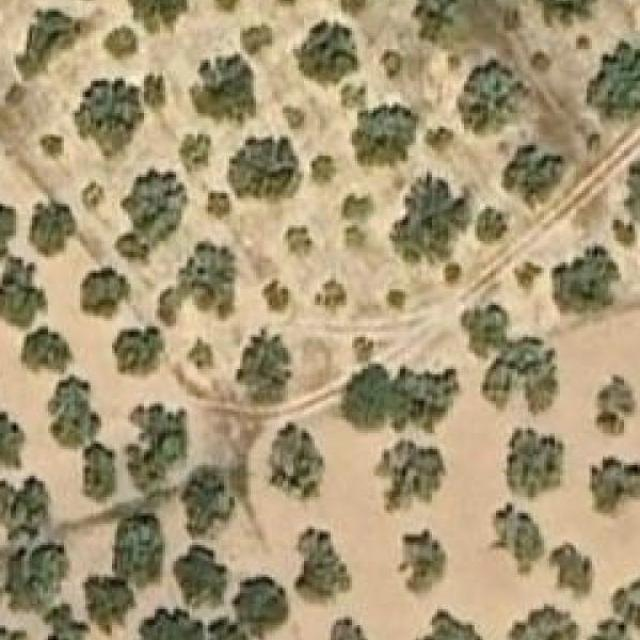Tree: (461, 302, 560, 417), (328, 364, 458, 433), (117, 166, 190, 262), (392, 175, 469, 260), (156, 241, 234, 324), (70, 81, 141, 162), (370, 441, 448, 513), (125, 404, 187, 490), (456, 60, 530, 132), (226, 134, 301, 204), (16, 10, 91, 79), (267, 422, 325, 508), (189, 54, 256, 127), (293, 527, 352, 607), (292, 17, 360, 86), (5, 545, 70, 614), (552, 244, 616, 314), (349, 106, 418, 170), (507, 428, 565, 502), (237, 330, 293, 404), (112, 513, 165, 591), (487, 502, 544, 572), (587, 43, 640, 118), (47, 375, 101, 447), (397, 529, 448, 602), (173, 545, 226, 609), (0, 260, 48, 329), (504, 145, 562, 202), (183, 468, 230, 538), (589, 456, 640, 518), (0, 472, 51, 534), (234, 577, 290, 630), (117, 606, 203, 640), (83, 575, 136, 630), (80, 266, 131, 322), (29, 202, 77, 260), (594, 374, 637, 436), (507, 603, 577, 640), (552, 543, 594, 602), (112, 326, 163, 374), (411, 609, 485, 640), (17, 330, 72, 371), (530, 0, 597, 33), (125, 0, 189, 33), (80, 444, 114, 502), (0, 412, 30, 476), (611, 566, 640, 632), (413, 0, 459, 39), (101, 22, 139, 68), (578, 616, 640, 640), (178, 134, 210, 180), (322, 614, 376, 640), (283, 225, 320, 260), (474, 207, 508, 244), (624, 150, 640, 222), (314, 276, 346, 312), (310, 156, 340, 193), (186, 340, 216, 376), (205, 619, 253, 640), (242, 22, 272, 54), (346, 332, 376, 362), (342, 193, 374, 221), (0, 200, 14, 262), (514, 262, 541, 292), (263, 280, 288, 310), (37, 134, 64, 161), (281, 106, 306, 132), (205, 193, 229, 218), (384, 49, 403, 76), (534, 49, 552, 74), (213, 0, 240, 15), (0, 625, 27, 640), (344, 0, 370, 15), (386, 289, 405, 308), (275, 0, 299, 6)
